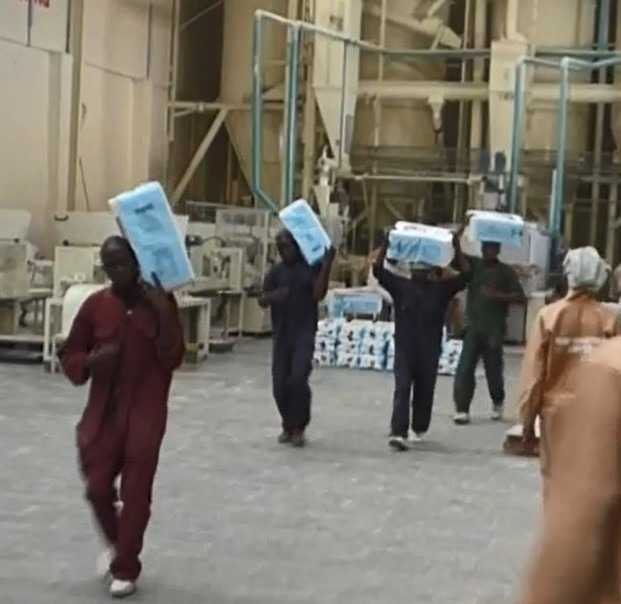wheat_flour_blue_label: (109, 182, 188, 287)
